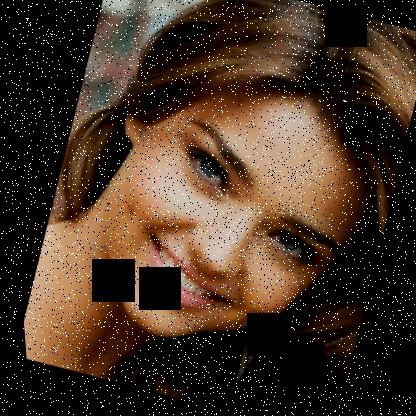Female: (54, 37, 407, 394)
